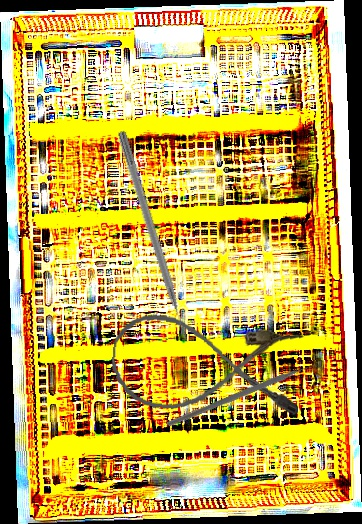Cannula: (107, 310, 307, 423)
Chopper: (166, 312, 327, 483)
Pusher: (114, 129, 191, 345)
